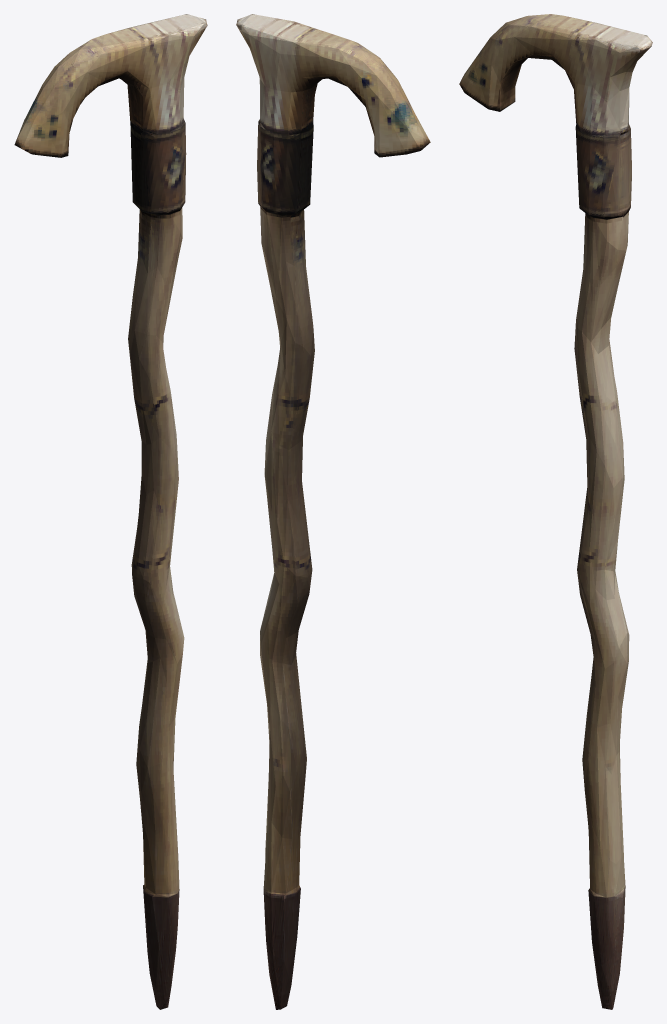
The model's file is wooden-walking-stick-3d.jpeg.glb.
3 views of the same model, side by side, from view 1: azimuth 30°, elevation 25°; view 2: azimuth 150°, elevation 25°; view 3: azimuth 330°, elevation 25° (orthographic).
Parts seen in each view (by area): view 1: world; view 2: world; view 3: world.
Boxes of the visible parts, <box> form: world: <box>14,14,207,1009</box>; world: <box>236,14,430,1009</box>; world: <box>459,14,652,1009</box>.
Size of the model in its own units: 0.2013 by 1 by 0.0457.
1 material, 1 textured.
